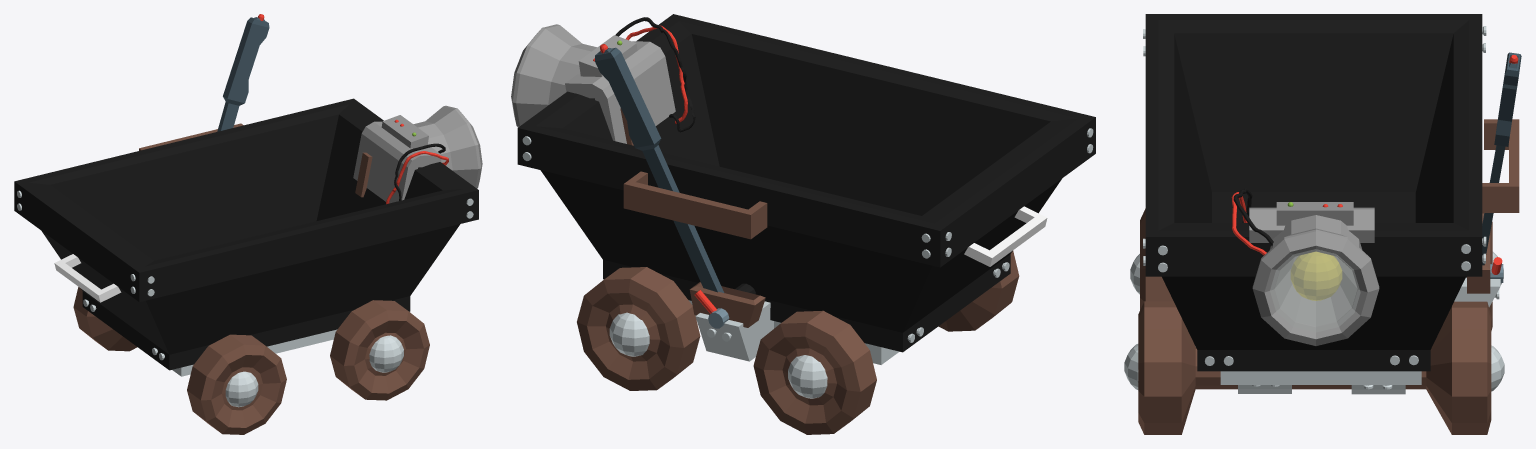
The model's file is cart.glb.
3 views of the same model, side by side, from view 1: azimuth 30°, elevation 25°; view 2: azimuth 150°, elevation 25°; view 3: azimuth 270°, elevation 25° (orthographic). The views are drawn at different scales.
Parts seen in each view (by area): view 1: group886312682, group1959756306, group672785919, group1534735487, group1740952096, group208685076, group1903098872, group139019841, group325307691, group111032520; view 2: group886312682, group1959756306, group672785919, group208685076, group1740952096, group876192833, group1534735487, group1224683189, group601013571, group1903098872, group139019841; view 3: group886312682, group672785919, group1740952096, group1695922619, group325307691, group876192833, group208685076, group1870260659, group1534735487, group1959756306, group139019841, group601013571 (+4 smaller).
Boxes of the visible parts, x1,y1,x2,y2 form: group886312682: (14, 98, 478, 370); group1959756306: (73, 287, 286, 434); group672785919: (330, 300, 429, 400); group1534735487: (353, 121, 442, 203); group1740952096: (413, 105, 482, 188); group208685076: (217, 17, 269, 131); group1903098872: (54, 254, 121, 302); group139019841: (381, 115, 428, 148); group325307691: (172, 329, 337, 376); group111032520: (355, 152, 372, 197); group886312682: (517, 14, 1095, 352); group1959756306: (753, 250, 1019, 434); group672785919: (577, 267, 700, 390); group208685076: (595, 47, 724, 292); group1740952096: (511, 24, 596, 127); group876192833: (623, 171, 767, 239); group1534735487: (565, 41, 675, 143); group1224683189: (695, 301, 773, 361); group601013571: (689, 282, 765, 327); group1903098872: (964, 206, 1047, 266); group139019841: (578, 35, 637, 76); group886312682: (1145, 14, 1482, 371); group672785919: (1124, 301, 1504, 434); group1740952096: (1252, 215, 1379, 345); group1695922619: (1270, 249, 1360, 332); group325307691: (1220, 371, 1421, 384); group876192833: (1482, 119, 1519, 212); group208685076: (1482, 52, 1521, 265); group1870260659: (1291, 252, 1341, 300); group1534735487: (1249, 207, 1374, 242); group1959756306: (1130, 208, 1503, 330); group139019841: (1276, 202, 1353, 225); group601013571: (1467, 235, 1490, 293).
Bounding box in the file's own units: 4.15 × 2.89 × 2.72.
